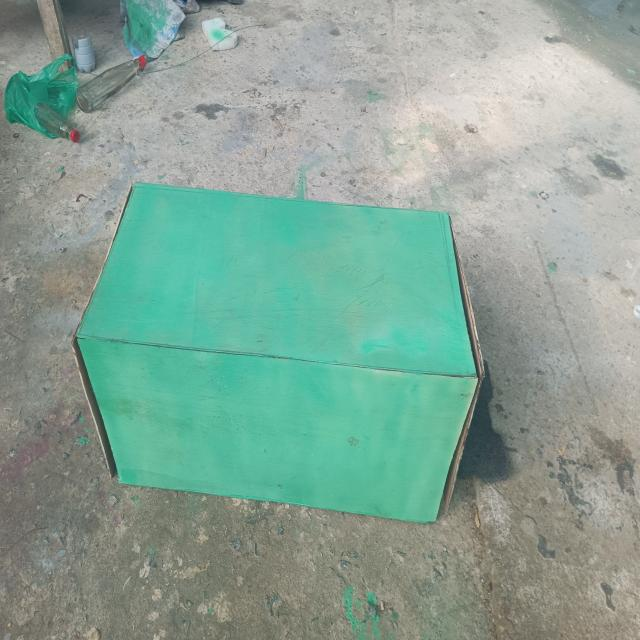green_box: (66, 131, 503, 544)
